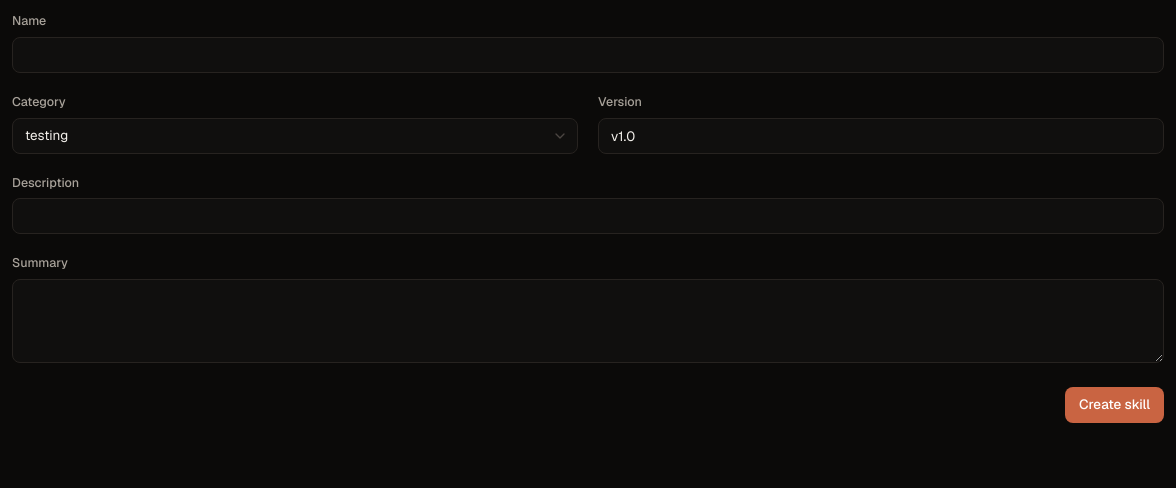
Test: SkillForm › blocks submission and shows an error when a required field is empty
In the text box labelled "Summary": point(588, 321) 12,279 -> 1164,363, type "A summary."
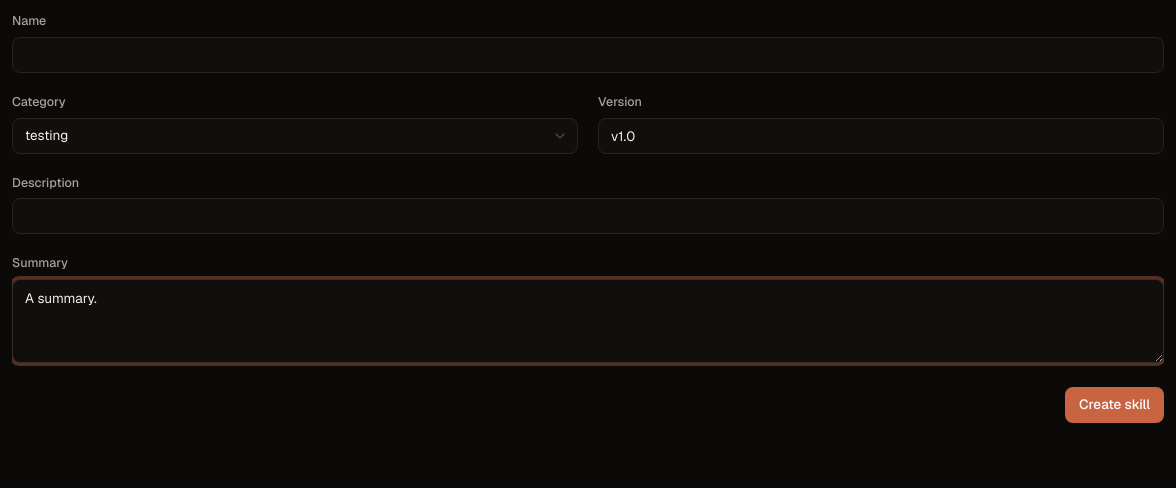
Click the button "Create skill": point(1115, 405) 1065,387 -> 1164,423
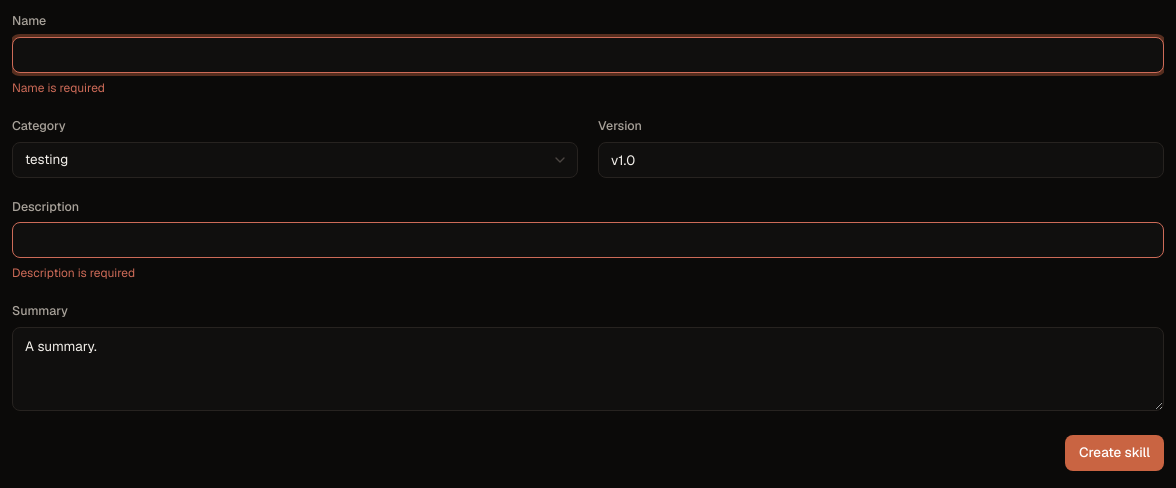
Expected: the text "Name is required" is shown, 12,80 -> 105,96
